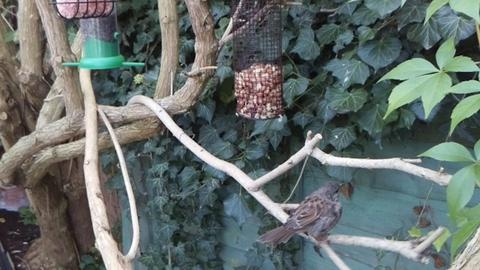dunnock: (256, 182, 344, 248)
